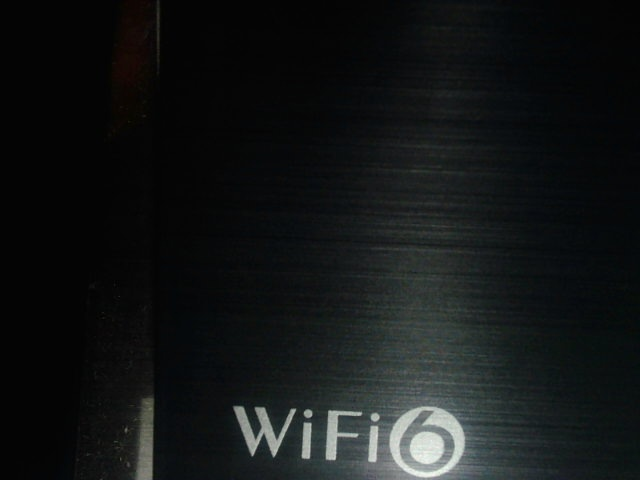AK_ZTEWIFI6Black: (224, 396, 475, 479)
